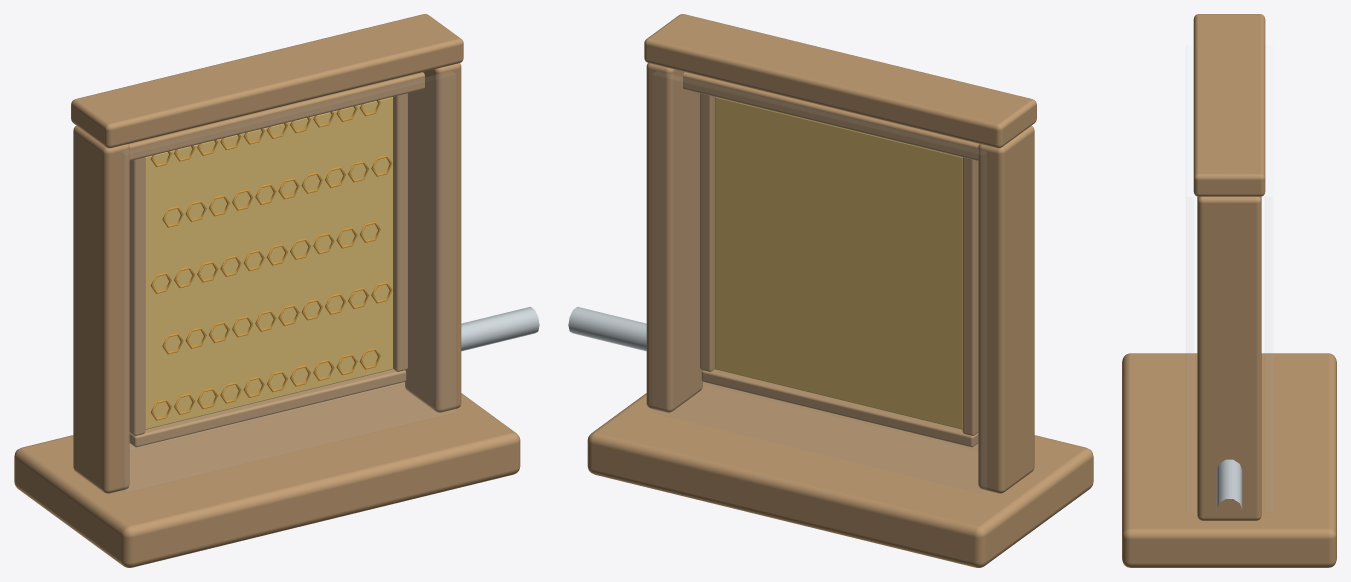
Rendered from beekeeping-and-honey-farm-observation-hive-755e8af3__30708.glb.
3 views of the same model, side by side, from view 1: azimuth 30°, elevation 25°; view 2: azimuth 150°, elevation 25°; view 3: azimuth 270°, elevation 25° (orthographic). The views are drawn at different scales.
Parts seen in each view (by area): view 1: observation-hive; view 2: observation-hive; view 3: observation-hive.
Part boxes in pixels (x1,y1,x2,y2): observation-hive: (14, 14, 539, 567); observation-hive: (568, 14, 1093, 567); observation-hive: (1122, 14, 1336, 567).
Size of the model in its own units: 0.7 by 0.595 by 0.3.
